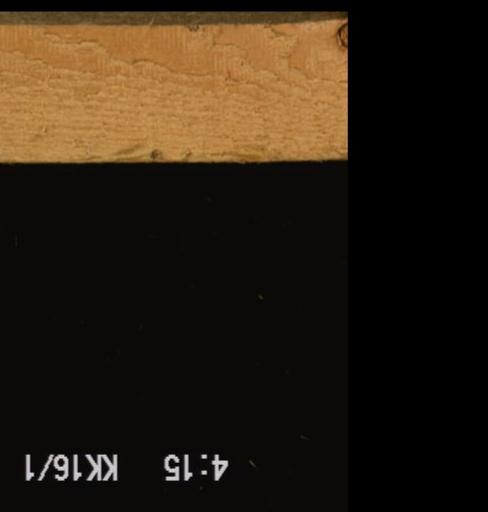dry_knot: (335, 19, 345, 49)
